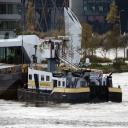tugboat: (17, 32, 124, 108)
